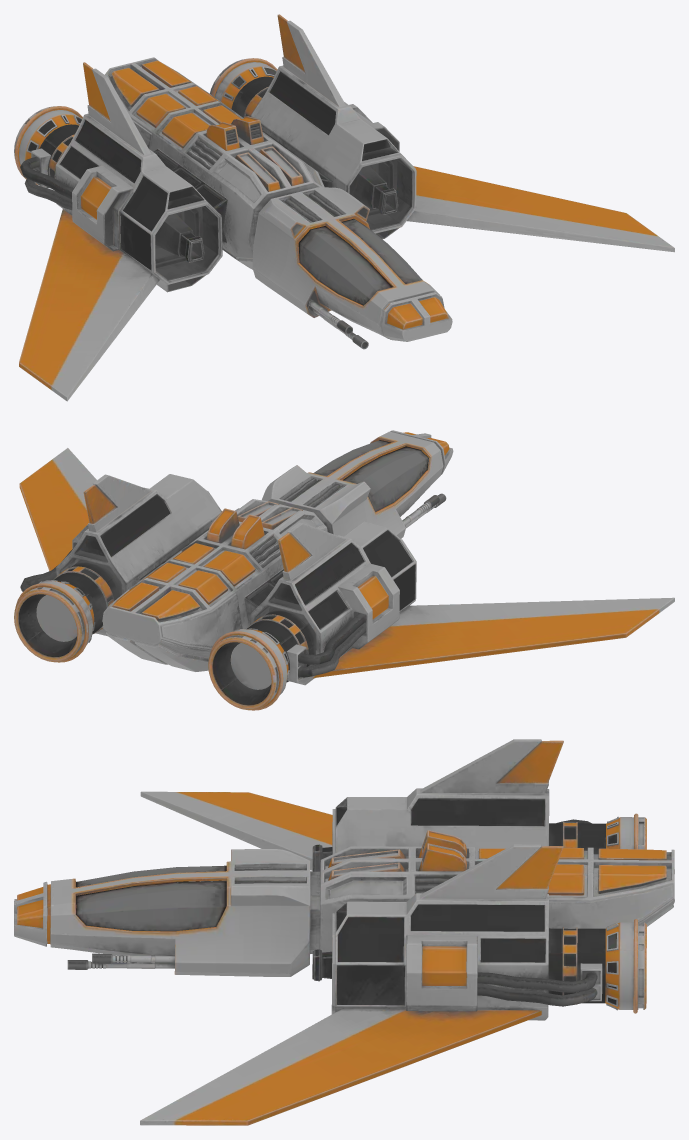
The model's file is Spaceship.glb.
3 renders of one model, top to bottom at view 1: azimuth 30°, elevation 25°; view 2: azimuth 150°, elevation 25°; view 3: azimuth 270°, elevation 25°, orthographic. The views are drawn at different scales.
Visible parts, largest first — view 1: Starship_Material.003_0; view 2: Starship_Material.003_0; view 3: Starship_Material.003_0.
Part boxes in pixels (box(x1,y1,x2,y2)): Starship_Material.003_0: box(14, 14, 674, 401); Starship_Material.003_0: box(14, 430, 674, 710); Starship_Material.003_0: box(14, 739, 674, 1125).
Size of the model in its own units: 25.92 by 6.51 by 21.89.
Materials: 1 (1 with a texture image).
